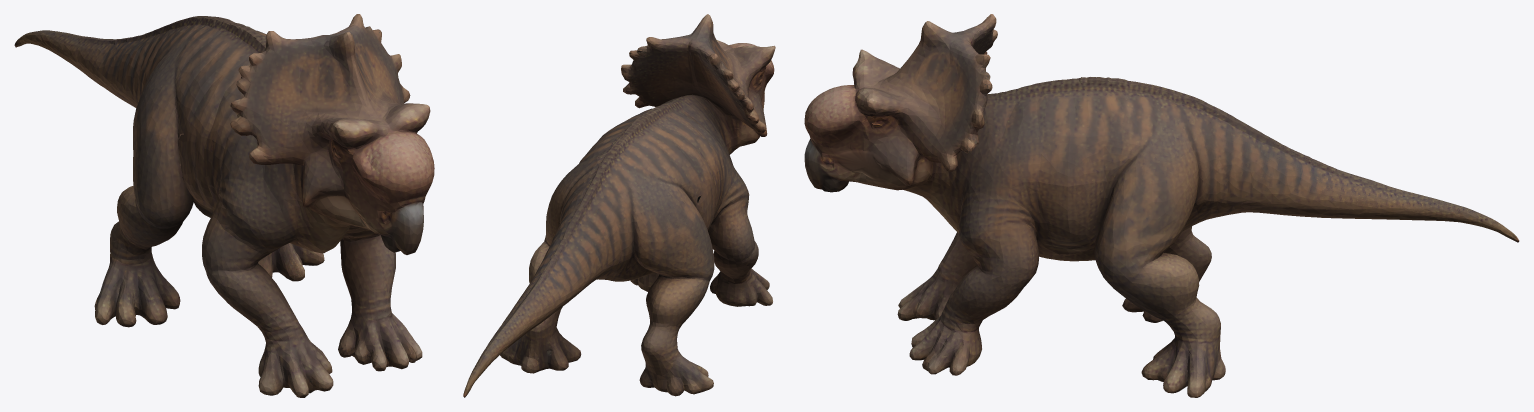
The picture shows the model from 3 angles, left to right: view 1: azimuth 30°, elevation 25°; view 2: azimuth 150°, elevation 25°; view 3: azimuth 270°, elevation 25°; orthographic projection. The views are drawn at different scales.
Visible parts, largest first — view 1: world; view 2: world; view 3: world.
Part boxes in pixels (bbox=[...]): world: bbox=[14, 14, 434, 397]; world: bbox=[463, 14, 775, 397]; world: bbox=[804, 14, 1519, 397].
Size of the model in its own units: 2.38 by 3.28 by 6.5.
Materials: 4 (1 with a texture image).
